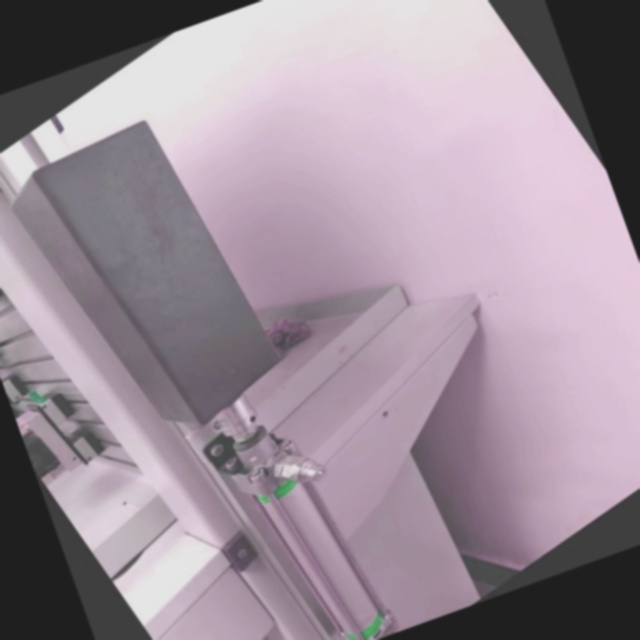load: (0, 25, 487, 640)
